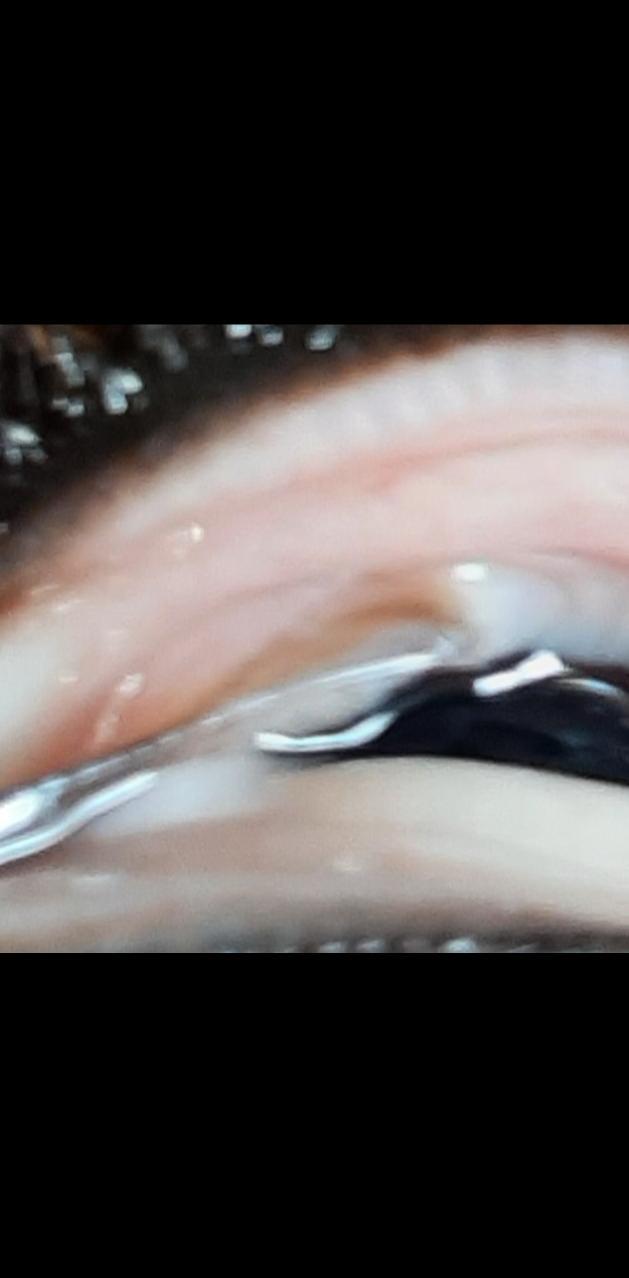eye_membrane: (0, 330, 629, 949)
